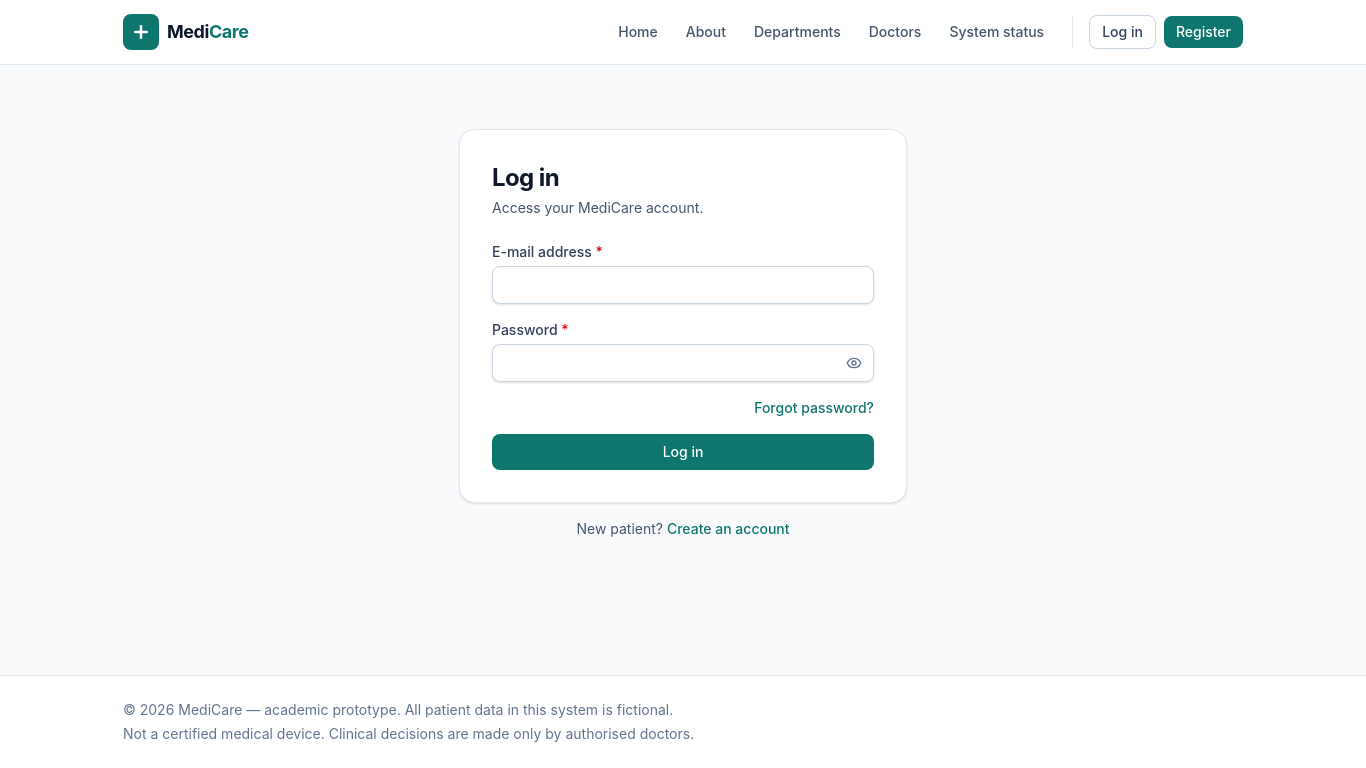
Test: Login page › redirects to the role dashboard after a successful login
The image size is (1366, 768).
Step 1. Type "doc@test.example" into the field labelled "E-mail address *" → (683, 285), box [492, 266, 874, 304]
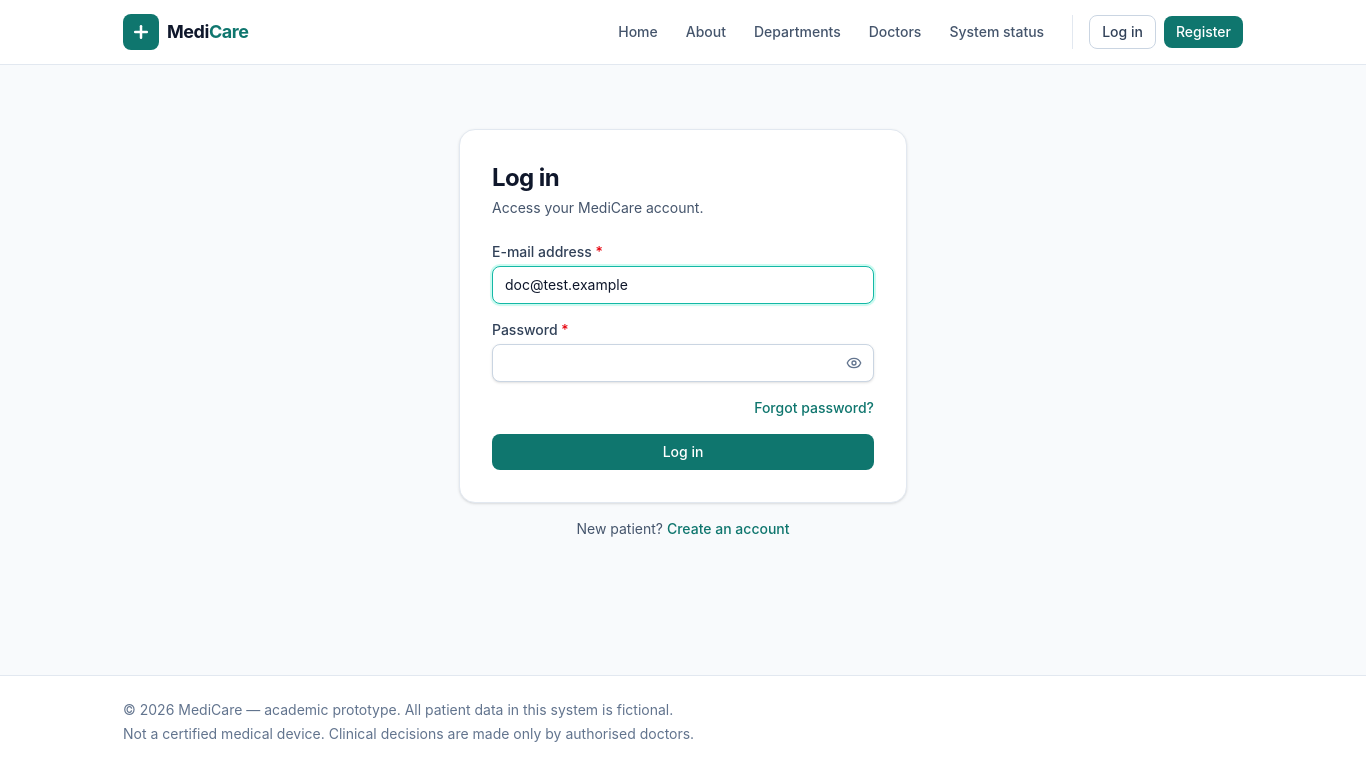
Step 2. Type "Secure@123" into the password field labelled "Password *" → (683, 363), box [492, 344, 874, 382]
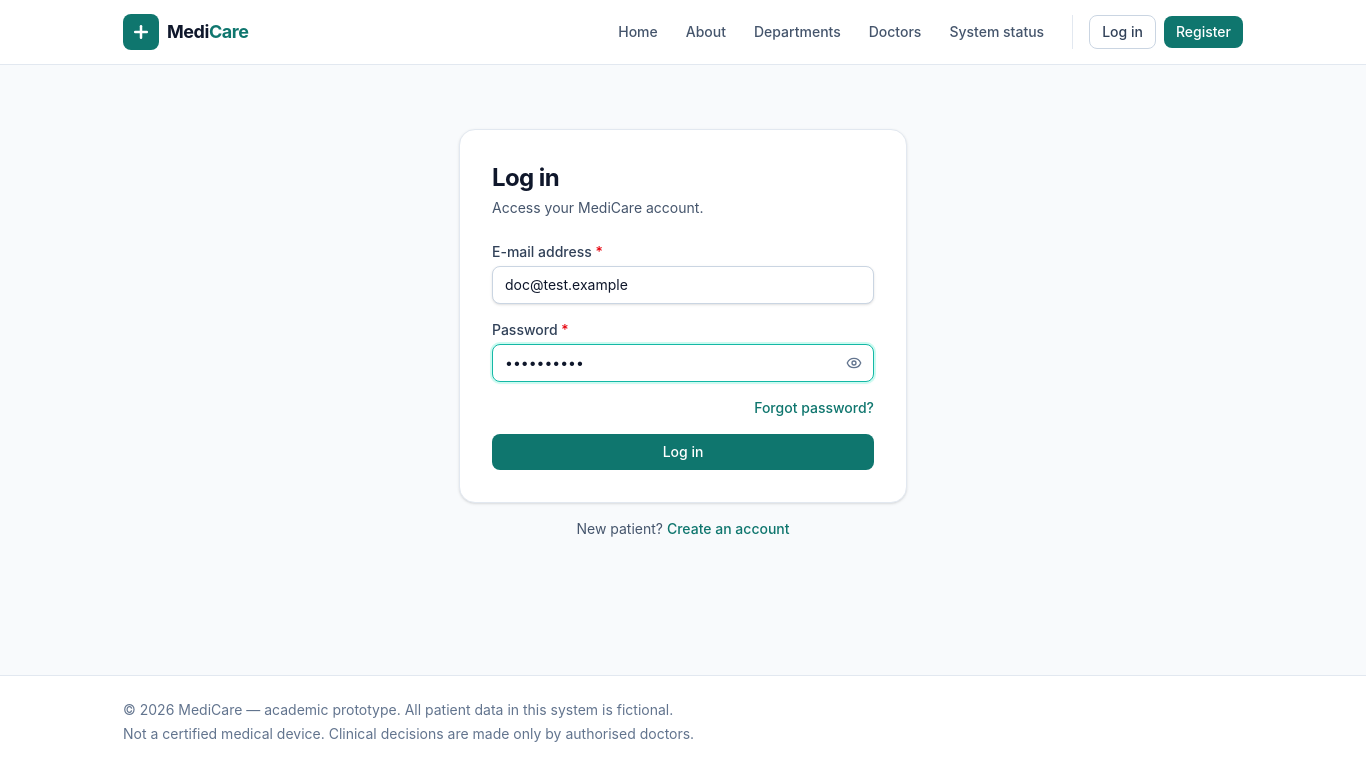
Step 3. Click the button "Log in" → (683, 452), box [492, 434, 874, 470]
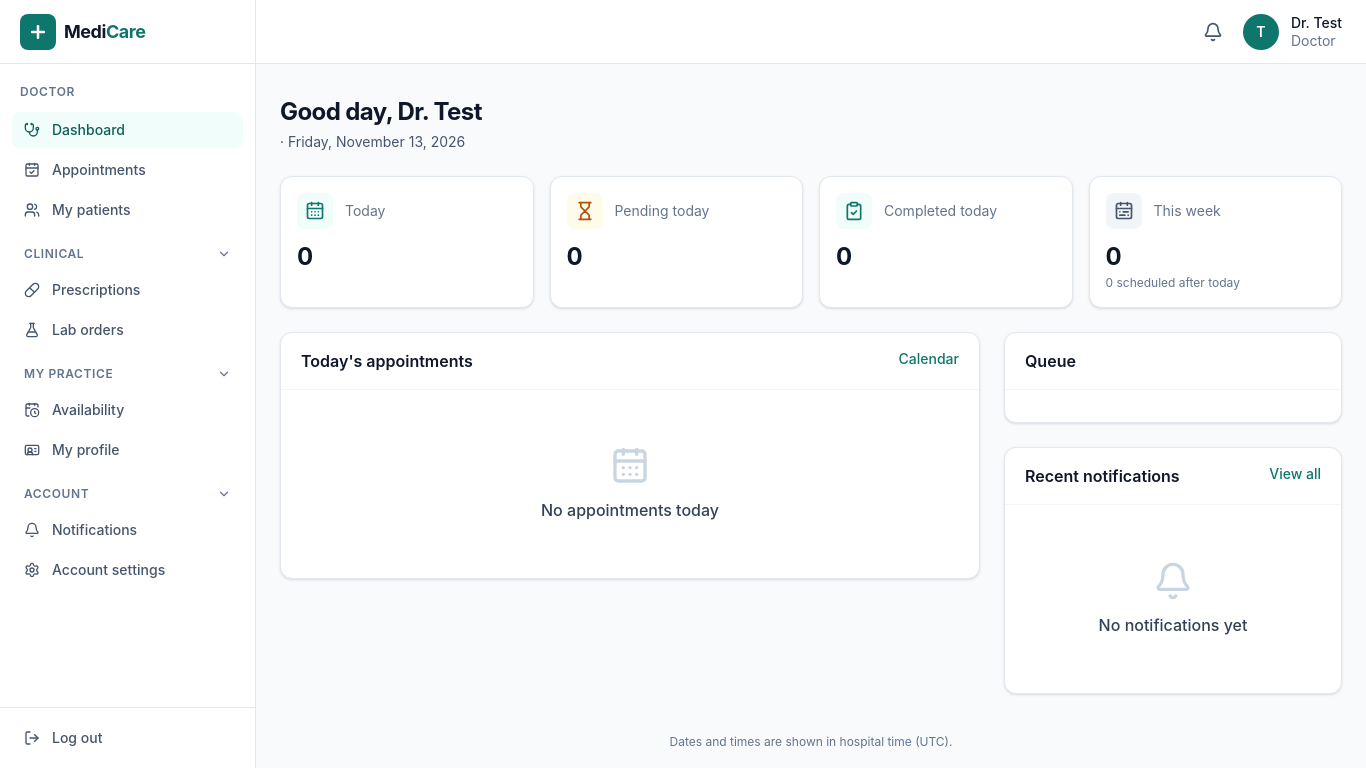
Now the heading "Good day, Dr. Test" is shown, box [280, 96, 482, 128]
Now the text "No appointments today" is shown, box [541, 498, 719, 522]
